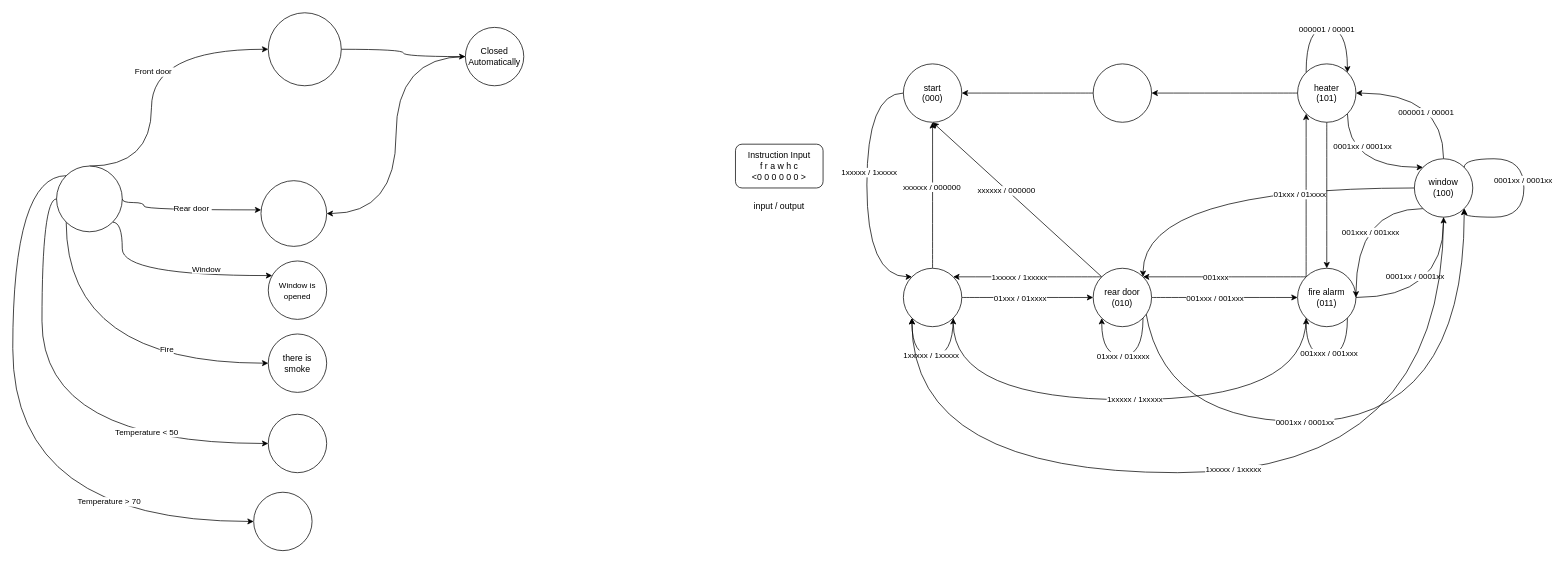
Some shapes in this 1564 by 564 pixel diagram are drawn without their labels. Here are the shapes that lost their labels. From the top down, the centre of each, then its label:
At point 304,49: "Front door open".
At point 1122,92: "cooler (110)".
At point 89,198: "idle".
At point 293,213: "Rear door open".
At point 932,297: "front door (001)".
